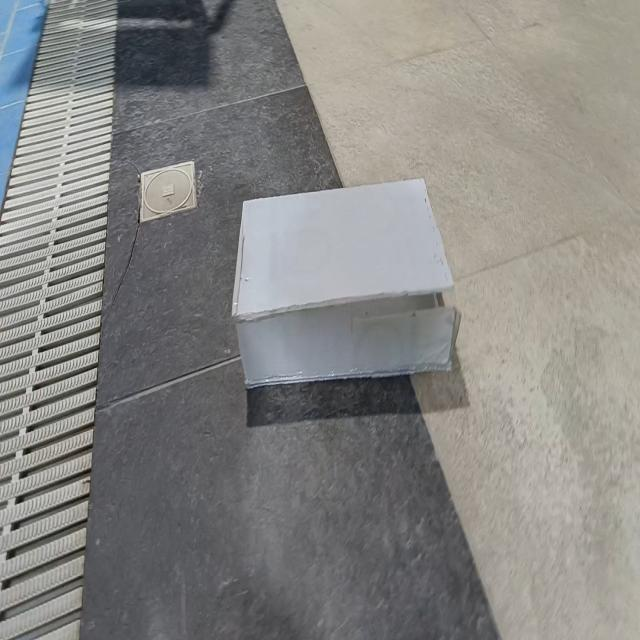Cuboid: (231, 175, 460, 389)
